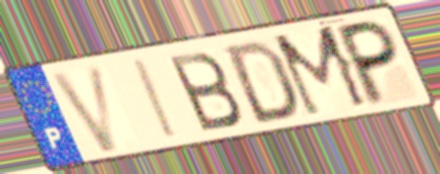B: (164, 48, 247, 135)
D: (223, 38, 302, 127)
I: (131, 56, 182, 143)
M: (269, 21, 374, 121)
P: (335, 16, 402, 110)
V: (46, 60, 122, 156)
